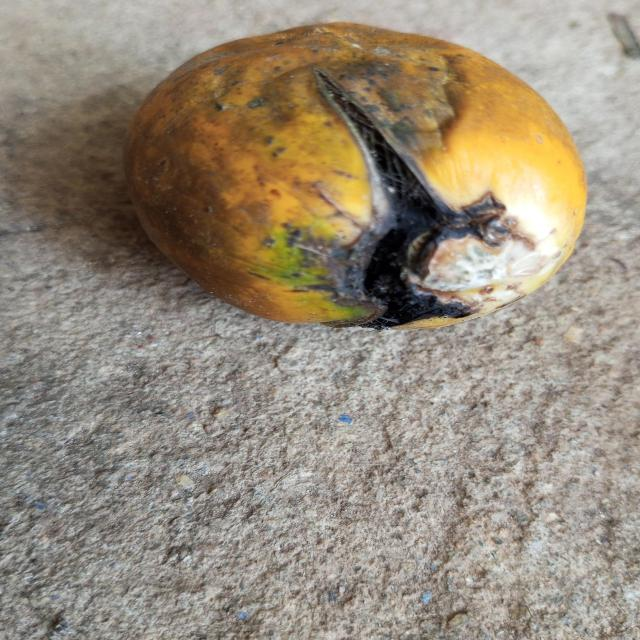damaged: (124, 21, 588, 332)
